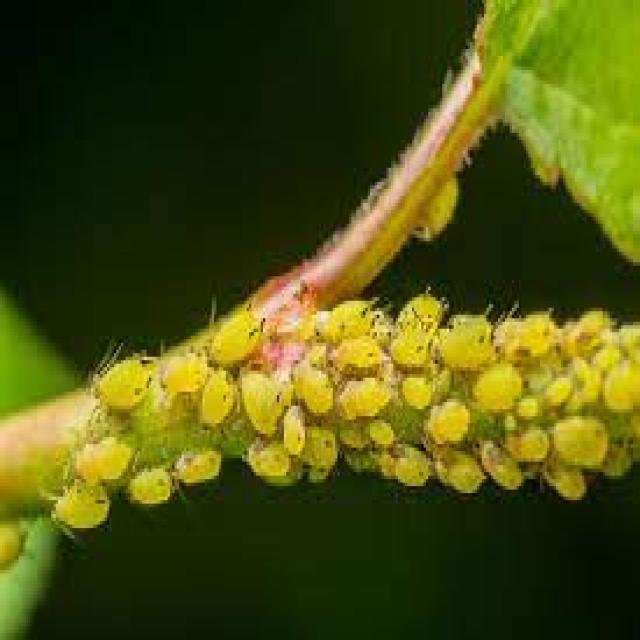Aphids: (90, 350, 154, 414), (208, 298, 268, 366), (42, 479, 111, 538), (436, 310, 494, 373), (551, 415, 612, 474), (234, 370, 286, 438), (470, 358, 526, 415), (544, 456, 594, 518), (481, 438, 525, 507), (334, 376, 396, 424), (501, 302, 554, 357), (239, 432, 294, 484), (322, 289, 378, 338), (290, 364, 337, 421), (72, 437, 131, 482), (424, 400, 476, 450), (378, 446, 432, 494), (396, 281, 447, 331), (297, 429, 344, 482), (603, 353, 640, 416), (125, 467, 177, 511), (172, 450, 227, 490), (196, 370, 232, 430), (390, 326, 433, 375), (331, 336, 383, 373), (166, 349, 206, 397), (270, 302, 314, 344), (573, 351, 601, 409), (509, 431, 552, 467), (570, 305, 614, 338), (534, 374, 574, 410), (282, 404, 306, 456), (368, 418, 398, 457), (514, 389, 544, 421)
